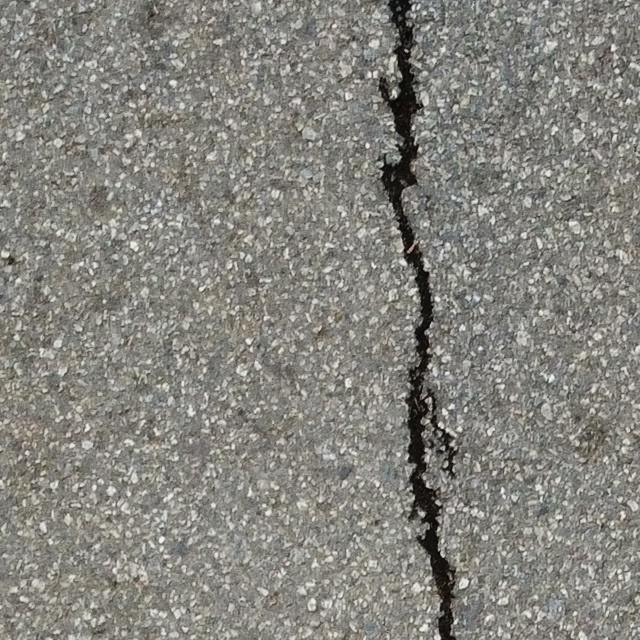LongitudinalCrack: (381, 1, 458, 640)
